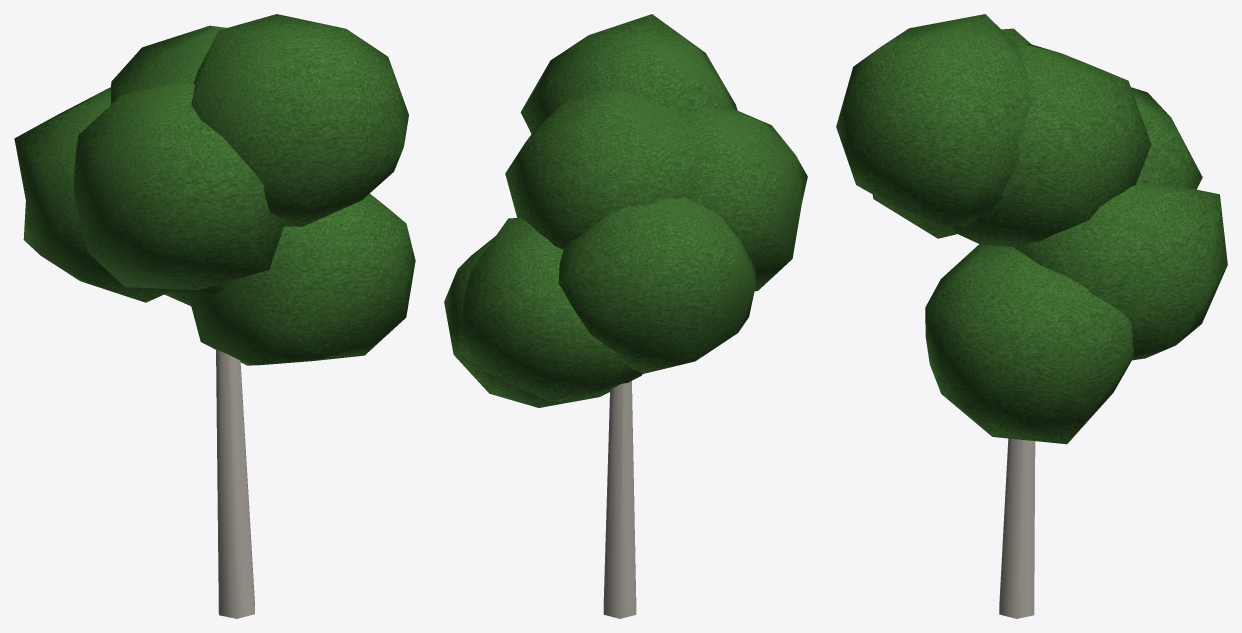
Rendered from ambient_tree_13.glb.
3 views of the same model, side by side, from view 1: azimuth 30°, elevation 25°; view 2: azimuth 150°, elevation 25°; view 3: azimuth 270°, elevation 25° (orthographic). The views are drawn at different scales.
Parts seen in each view (by area): view 1: ambient_tree_13; view 2: ambient_tree_13; view 3: ambient_tree_13.
Part boxes in pixels (x1,y1,x2,y2): ambient_tree_13: [14, 14, 415, 618]; ambient_tree_13: [444, 14, 807, 618]; ambient_tree_13: [836, 14, 1227, 618].
Size of the model in its own units: 5.61 by 9.51 by 5.79.
2 materials, 2 textured.
